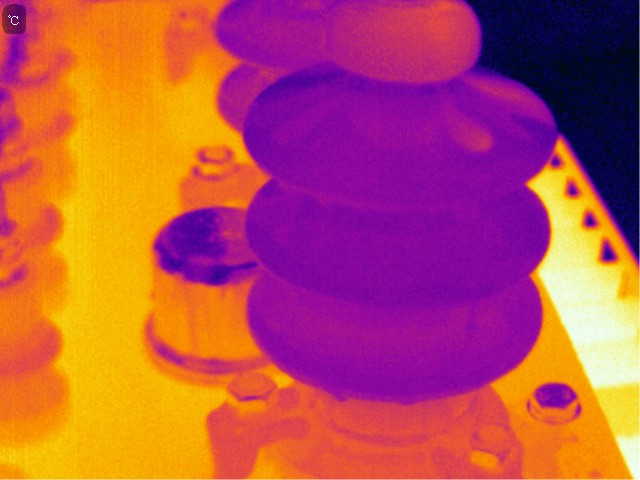Oil: (321, 1, 481, 82), (471, 75, 547, 126), (445, 102, 498, 155), (333, 383, 351, 405)
